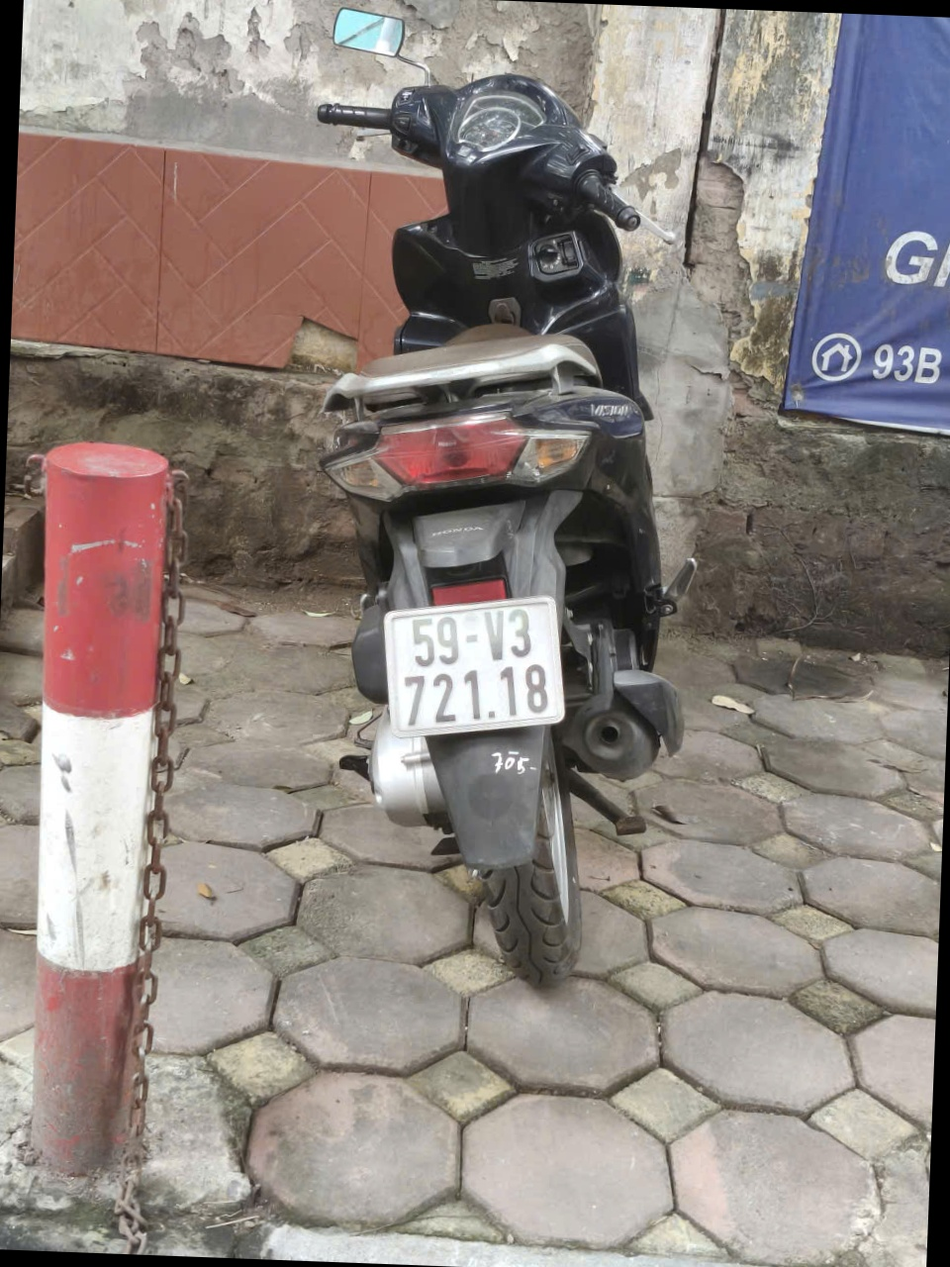plate: (398, 383, 531, 426)
